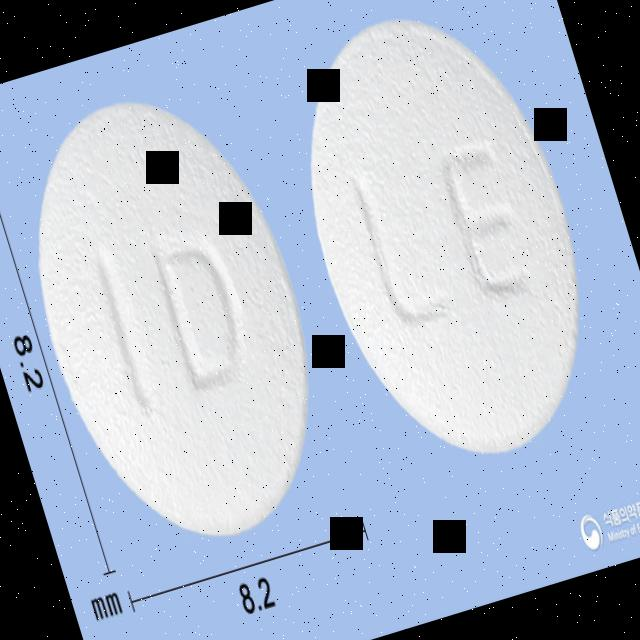Levofexin - 250mg: (0, 68, 355, 571), (263, 0, 628, 488)
